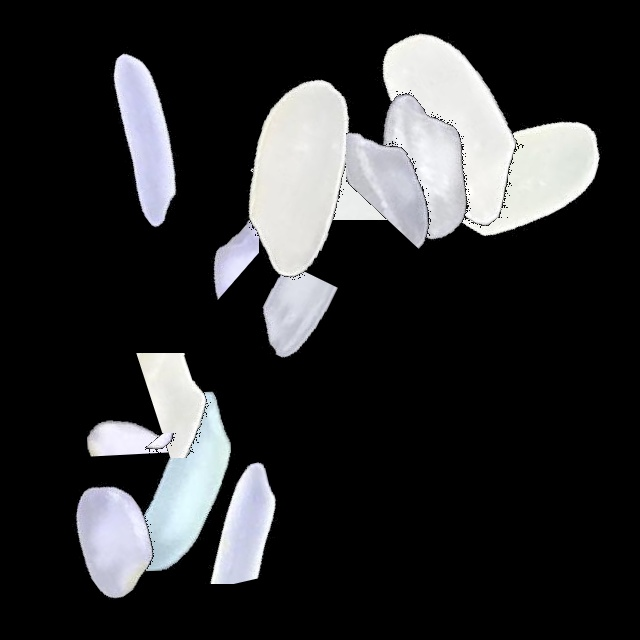Broken: (19, 431, 269, 601), (346, 25, 492, 275), (208, 215, 353, 465), (100, 439, 350, 584), (225, 88, 475, 220), (81, 272, 194, 522), (146, 106, 259, 356), (83, 353, 333, 458), (51, 433, 301, 513)
Full: (52, 357, 302, 607), (383, 45, 633, 295), (328, 1, 578, 251), (298, 41, 548, 291), (19, 13, 269, 263), (171, 49, 421, 299)
